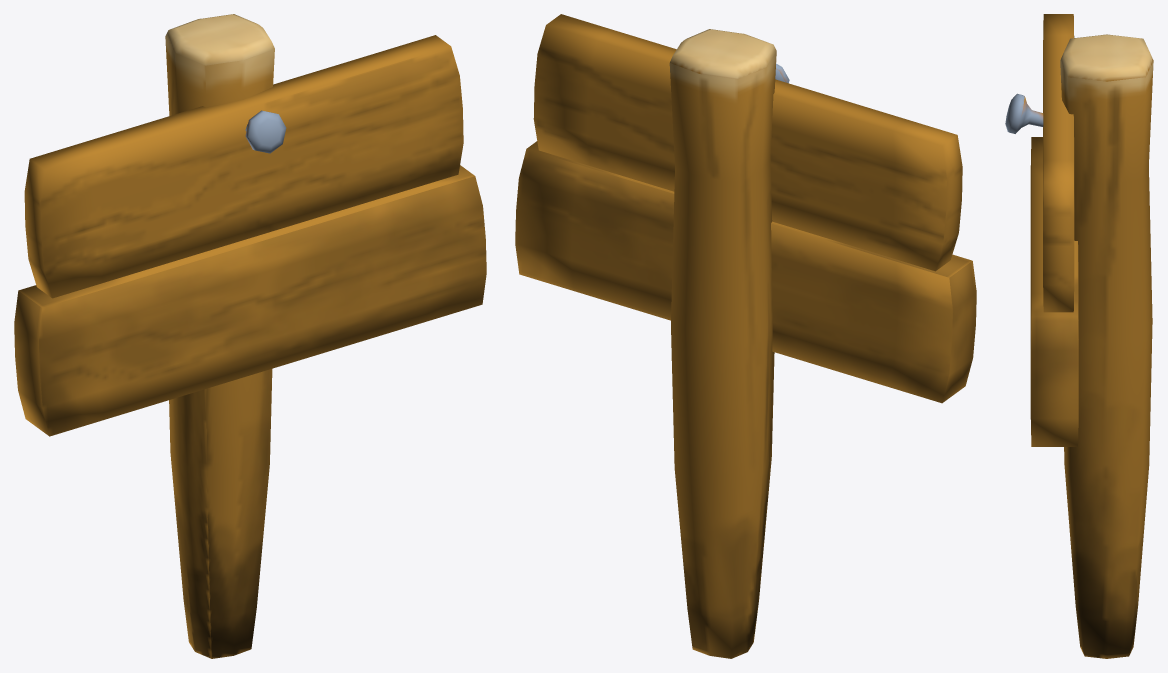
The model's file is WoodenSign-optimized.glb.
The picture shows the model from 3 angles, left to right: view 1: azimuth 30°, elevation 25°; view 2: azimuth 150°, elevation 25°; view 3: azimuth 270°, elevation 25°; orthographic projection. The views are drawn at different scales.
Parts seen in each view (by area): view 1: Cube.015; view 2: Cube.015; view 3: Cube.015.
Part boxes in pixels (left/top/right/bottom): Cube.015: left=14, top=14, right=486, bottom=658; Cube.015: left=515, top=14, right=976, bottom=658; Cube.015: left=1005, top=14, right=1153, bottom=658.
Size of the model in its own units: 0.6422 by 0.8393 by 0.1893.
1 material, 1 textured.
